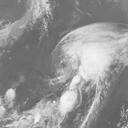cyclone: (54, 25, 109, 82)
